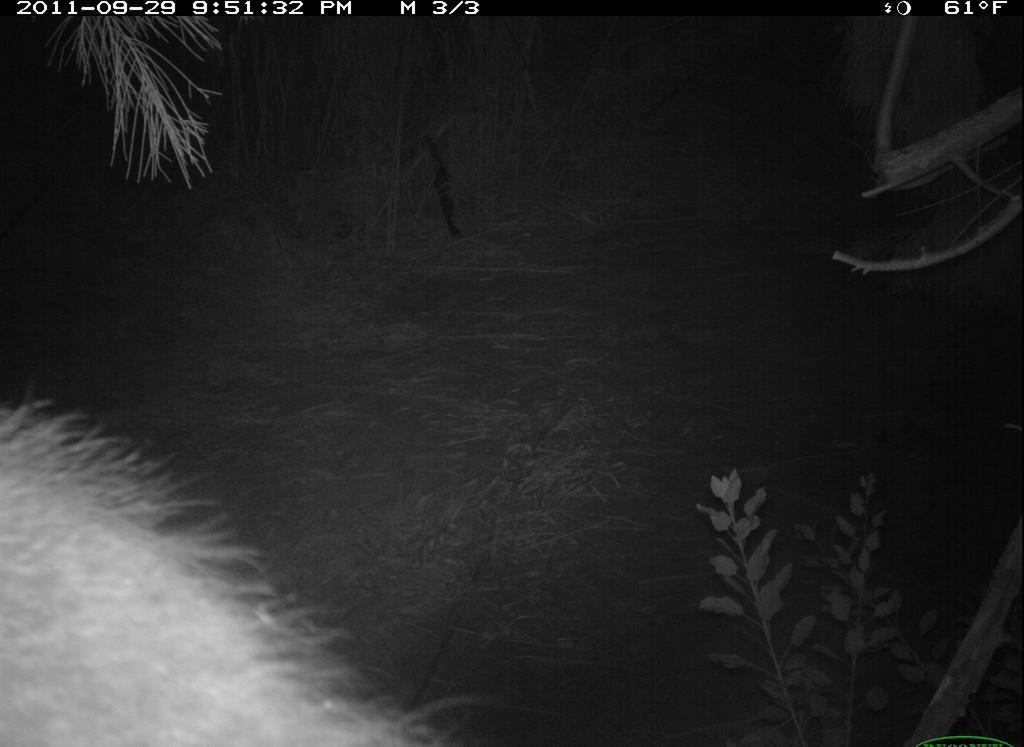raccoon: (1, 381, 506, 747)
